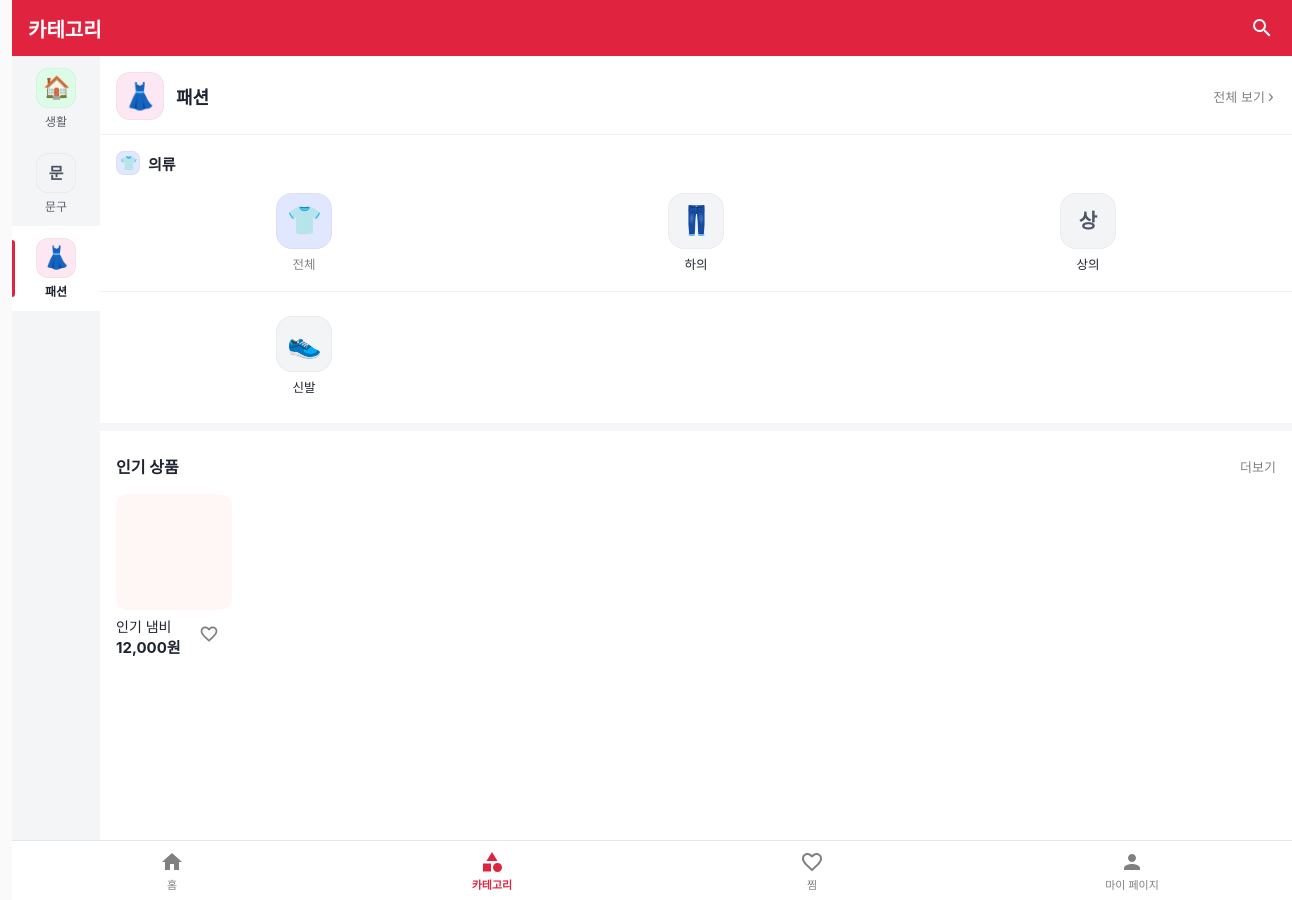
Test: CategoryPage › opens a depth-3 product list from a section
Click the link "👖 하의".
click(696, 232)  # box [668,193,724,272]
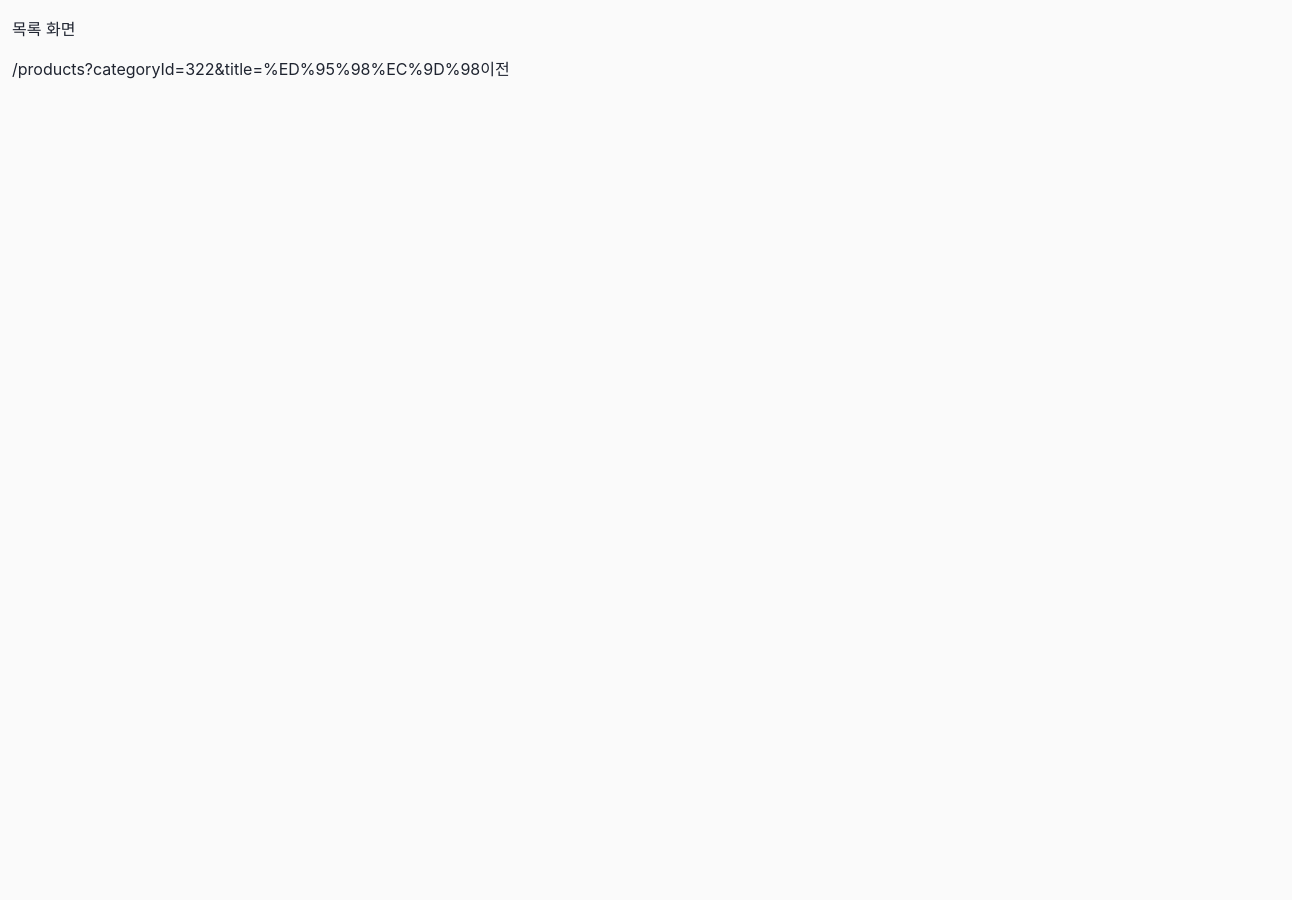
Check: the text "목록 화면" is shown, box [12,19,75,39]
Check: the text with test id "location" reads "/products?categoryId=322&title=%ED%95%98%EC%9D%98", box [12,59,480,79]
